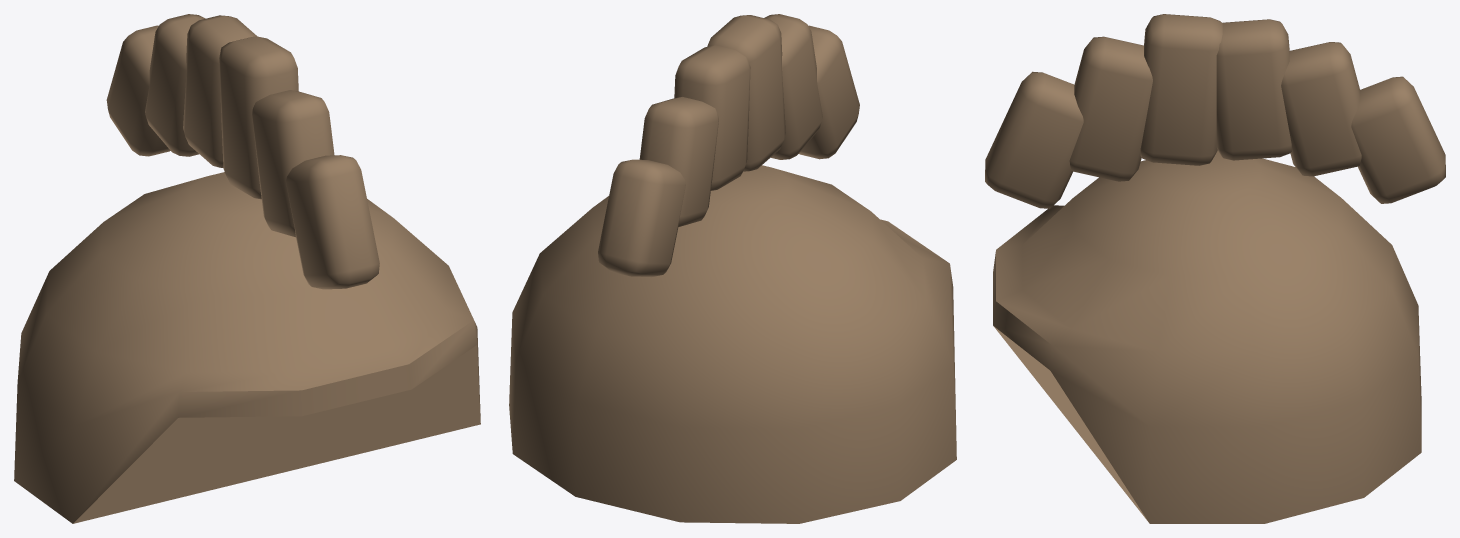
The model's file is CharHairMohawk.fbx.
The picture shows the model from 3 angles, left to right: view 1: azimuth 30°, elevation 25°; view 2: azimuth 150°, elevation 25°; view 3: azimuth 270°, elevation 25°; orthographic projection. The views are drawn at different scales.
Parts seen in each view (by area): view 1: CharHairMohawk; view 2: CharHairMohawk; view 3: CharHairMohawk.
Boxes of the visible parts, x1,y1,x2,y2 form: CharHairMohawk: (14,14,480,523); CharHairMohawk: (509,14,956,523); CharHairMohawk: (985,14,1445,523).
Bounding box in the file's own units: 0.3941 × 0.3839 × 0.3938.
